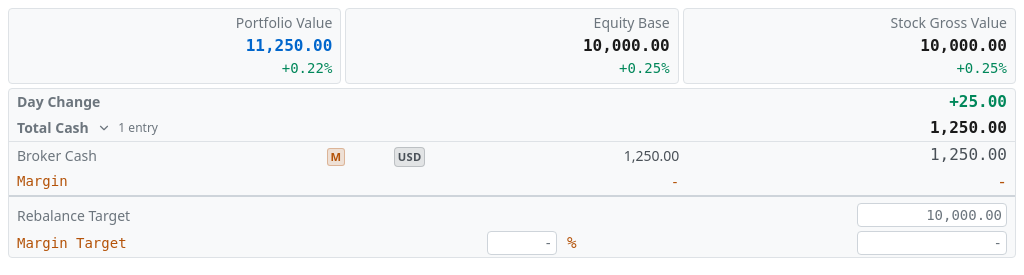
cash summary disclosure › hides cash entries while retaining every summary row
This screenshot has width=1024, height=275.
Expected: the text "1 entry" is shown, [118, 120, 158, 137]
Click the button named "Hide cash entries" at (104, 128), box [94, 118, 114, 138]
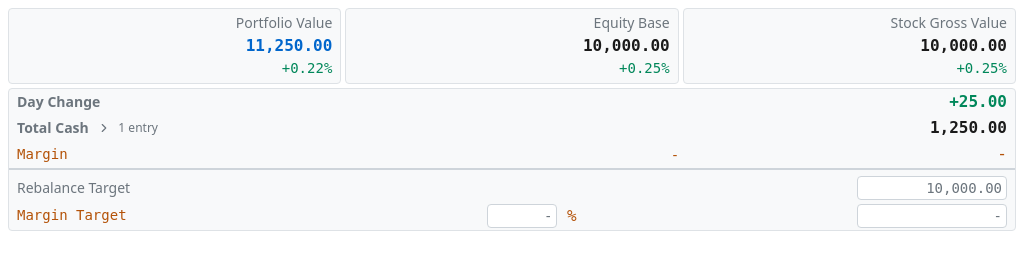
Expected: the text "Total Cash" is shown, [17, 118, 89, 138]
Expected: the cell "Broker Cash" is gone
